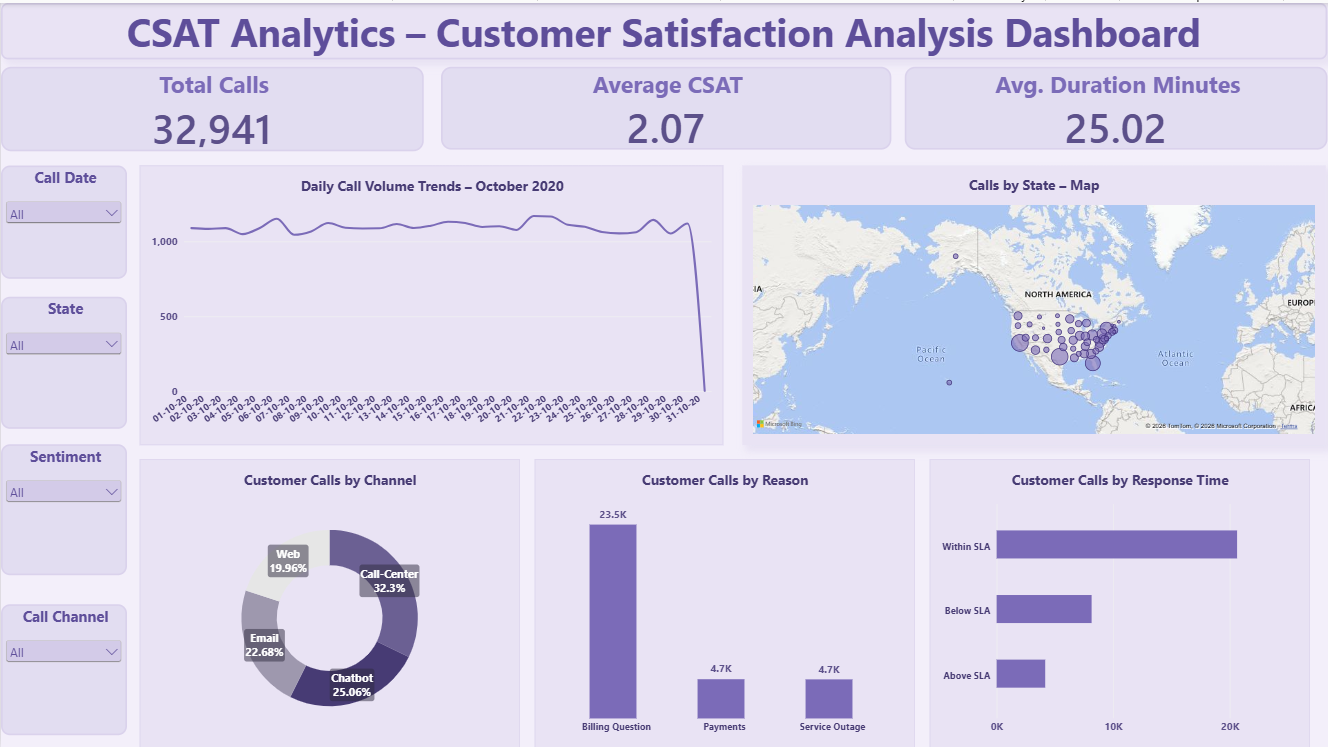

This screenshot's page, from the dashboard's own definition file:
{"tool":"powerbi","page":{"name":"Page 1","canvas":[1920,1080],"ordinal":0},"visuals":[{"type":"lineChart","title":"Daily Call Volume Trends – October 2020","fields":{"Category":["project_csat_analytics CSAT.call_timestamp"],"Y":["Count(project_csat_analytics CSAT.id)"]},"box":[200.4,235,845,404.5],"z":0},{"type":"textbox","box":[0,0,1920.4,81.3],"z":1},{"type":"cardVisual","title":"Average CSAT","fields":{"Data":["Avg(project_csat_analytics CSAT.csat_score)"]},"box":[637.7,92.9,652.3,120.3],"z":3},{"type":"cardVisual","title":"Avg. Duration Minutes","fields":{"Data":["Avg(project_csat_analytics CSAT.call_duration_in_minutes)"]},"box":[1308.2,92.9,612.2,120.3],"z":4},{"type":"cardVisual","title":"Total Calls","fields":{"Data":["Count(project_csat_analytics CSAT.id)"]},"box":[0,92.9,612.2,122.1],"z":5},{"type":"slicer","title":"Call Date","fields":{"Values":["project_csat_analytics CSAT.call_timestamp"]},"box":[0,235,182.2,164],"z":6},{"type":"slicer","title":"Sentiment","fields":{"Values":["project_csat_analytics CSAT.sentiment"]},"box":[0,639.5,182.2,189.5],"z":7},{"type":"slicer","title":"State","fields":{"Values":["project_csat_analytics CSAT.state"]},"box":[0,424.5,182.2,191.3],"z":8},{"type":"slicer","title":"Call Channel","fields":{"Values":["project_csat_analytics CSAT.channel"]},"box":[0,870.9,182.2,189.5],"z":9},{"type":"donutChart","title":"Customer Calls by Channel","fields":{"Category":["project_csat_analytics CSAT.channel"],"Y":["Count(project_csat_analytics CSAT.id)"]},"box":[200.4,661.4,550,419],"z":10},{"type":"map","title":"Calls by State – Map","fields":{"Category":["project_csat_analytics CSAT.state"],"Size":["CountNonNull(project_csat_analytics CSAT.id)"]},"box":[1073.1,235,845,404.5],"z":11},{"type":"clusteredColumnChart","title":"Customer Calls by Reason","fields":{"Category":["project_csat_analytics CSAT.reason"],"Y":["CountNonNull(project_csat_analytics CSAT.id)"]},"box":[772.5,661.4,550,419.1],"z":13},{"type":"barChart","title":"Customer Calls by Response Time","fields":{"Category":["project_csat_analytics CSAT.response_time"],"Y":["CountNonNull(project_csat_analytics CSAT.id)"]},"box":[1344.6,661.4,550,419.1],"z":14}]}

Visuals, with their boxes in screenshot pixels (x1, y1, x2, y2), scaled from the page's 1920x1080 canvas onto the 1328x747 screenshot:
"Daily Call Volume Trends – October 2020" lineChart: rect(139, 163, 723, 442)
textbox: rect(0, 0, 1327, 56)
"Average CSAT" cardVisual: rect(441, 64, 892, 147)
"Avg. Duration Minutes" cardVisual: rect(905, 64, 1327, 147)
"Total Calls" cardVisual: rect(0, 64, 423, 149)
"Call Date" slicer: rect(0, 163, 126, 276)
"Sentiment" slicer: rect(0, 442, 126, 573)
"State" slicer: rect(0, 294, 126, 426)
"Call Channel" slicer: rect(0, 602, 126, 733)
"Customer Calls by Channel" donutChart: rect(139, 457, 519, 746)
"Calls by State – Map" map: rect(742, 163, 1327, 442)
"Customer Calls by Reason" clusteredColumnChart: rect(534, 457, 915, 746)
"Customer Calls by Response Time" barChart: rect(930, 457, 1310, 746)
